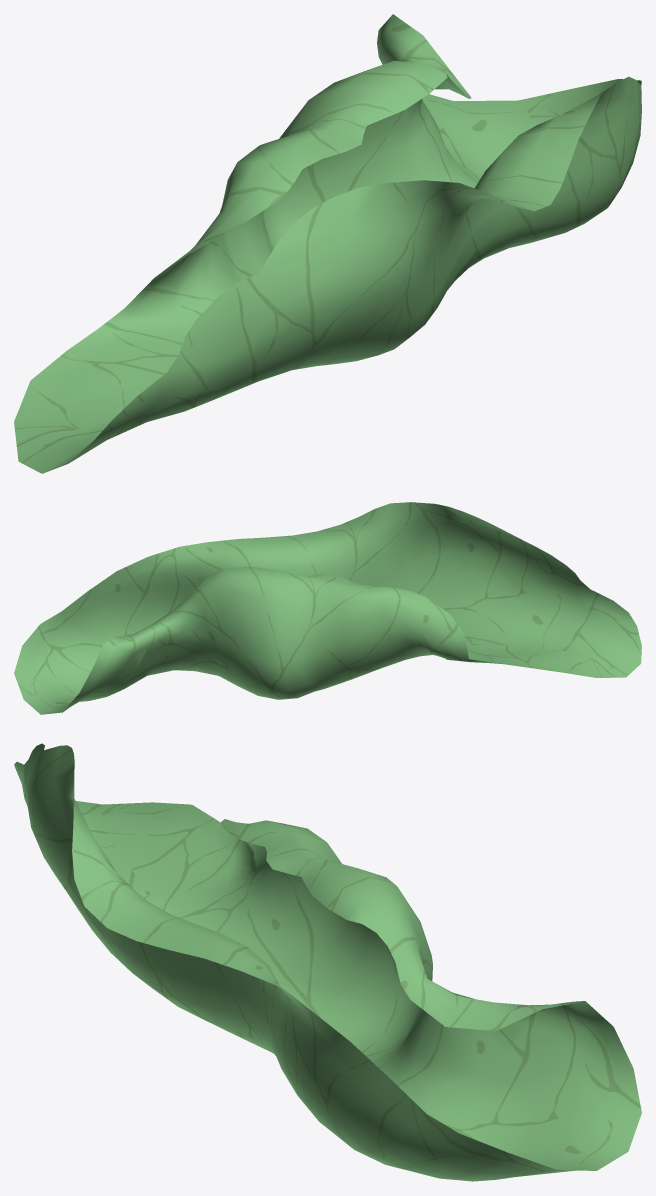
The model's file is Mesh_Home_RF_Leaf_02_SM.fbx.
3 views of the same model, one above another, from view 1: azimuth 30°, elevation 25°; view 2: azimuth 150°, elevation 25°; view 3: azimuth 270°, elevation 25° (orthographic). The views are drawn at different scales.
Visible parts, largest first — view 1: Mesh_Home_RF_Leaf_02; view 2: Mesh_Home_RF_Leaf_02; view 3: Mesh_Home_RF_Leaf_02.
Part boxes in pixels (x1,y1,x2,y2): Mesh_Home_RF_Leaf_02: (14, 14, 641, 473); Mesh_Home_RF_Leaf_02: (14, 502, 641, 714); Mesh_Home_RF_Leaf_02: (14, 743, 641, 1181).
Size of the model in its own units: 2931 by 881 by 2133.
Materials: 1 (1 with a texture image).
